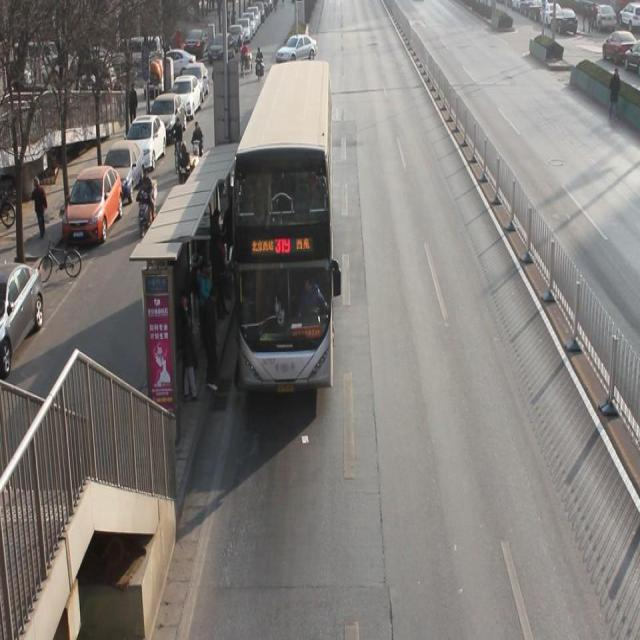car: (289, 34, 317, 63)
van: (231, 58, 332, 388)
